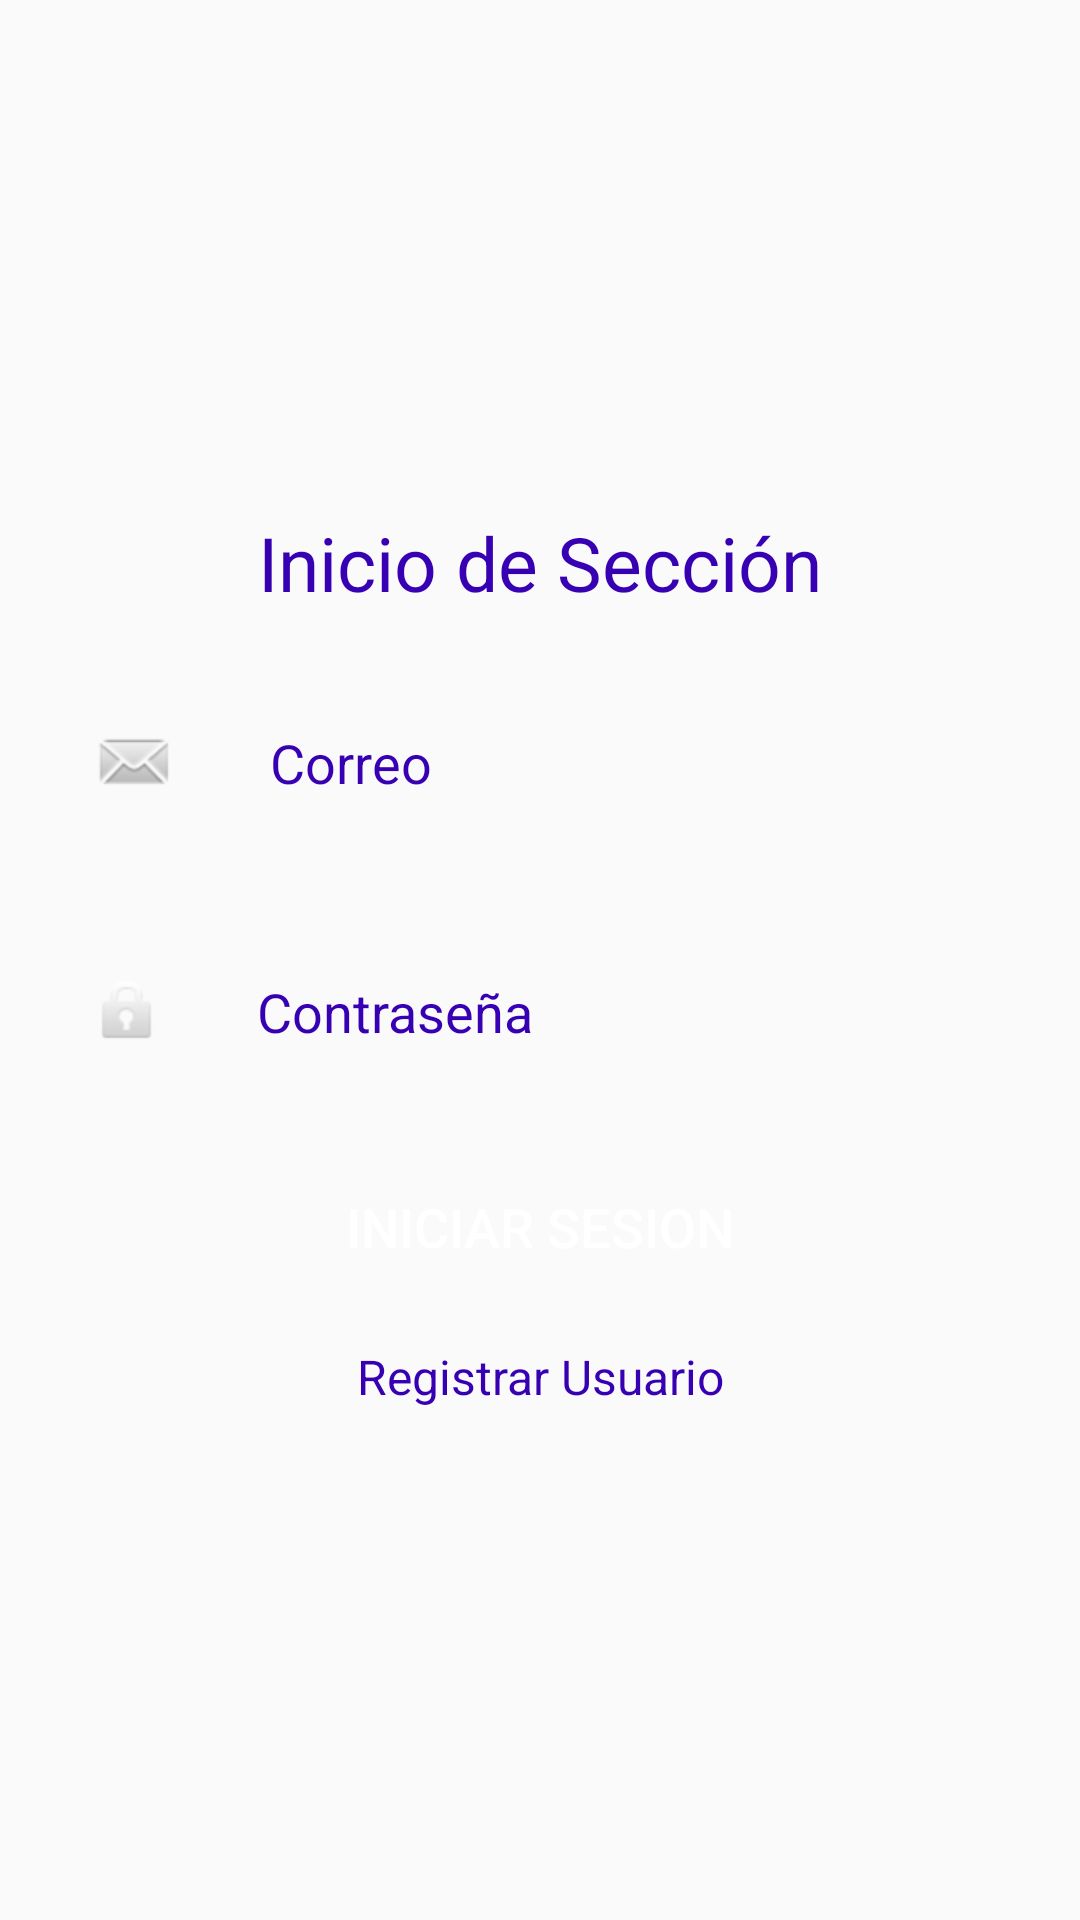

Where icons sit on this 1080*1920 app screen, as (x1,y1,x2,y2):
sym action email: (100,739,168,784)
